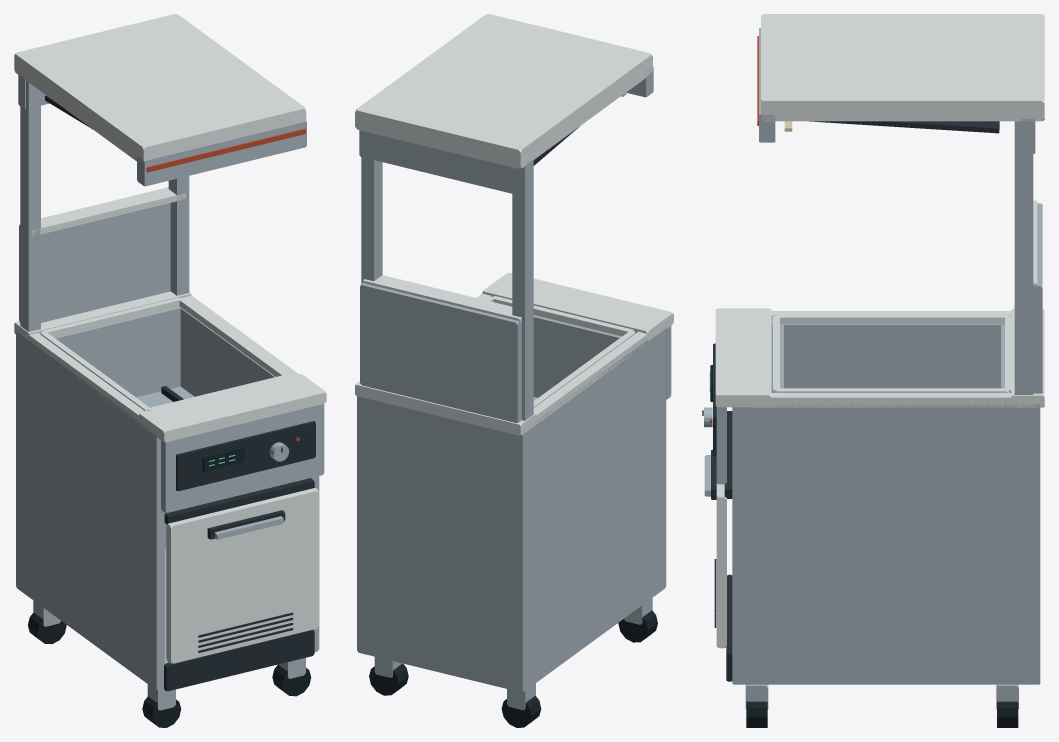
The model's file is Fryer_Single.glb.
The picture shows the model from 3 angles, left to right: view 1: azimuth 30°, elevation 25°; view 2: azimuth 150°, elevation 25°; view 3: azimuth 270°, elevation 25°; orthographic projection. The views are drawn at different scales.
Parts seen in each view (by area): view 1: Body, Door01, Controls; view 2: Body; view 3: Body, Door01, Vent, Controls.
Part boxes in pixels (x1,y1,x2,y2): Body: (14, 14, 326, 727); Door01: (166, 488, 318, 663); Controls: (176, 421, 315, 490); Body: (355, 14, 673, 727); Body: (715, 14, 1044, 727); Door01: (704, 449, 726, 648); Vent: (809, 121, 999, 133); Controls: (702, 343, 716, 456).
Size of the model in its own units: 0.5 by 1.7 by 0.8325.
